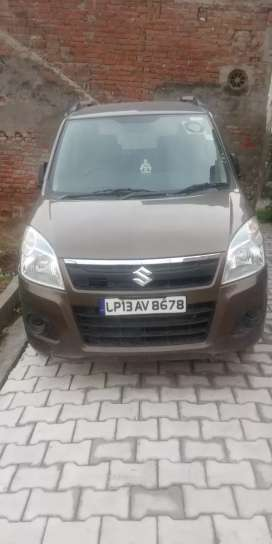license_plate: (97, 295, 193, 320)
